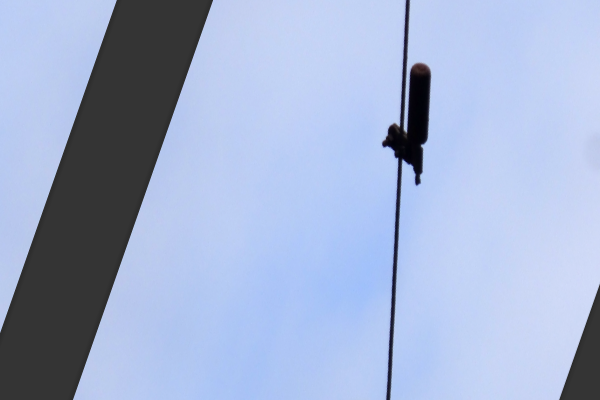damper_defect: (379, 59, 434, 190)
